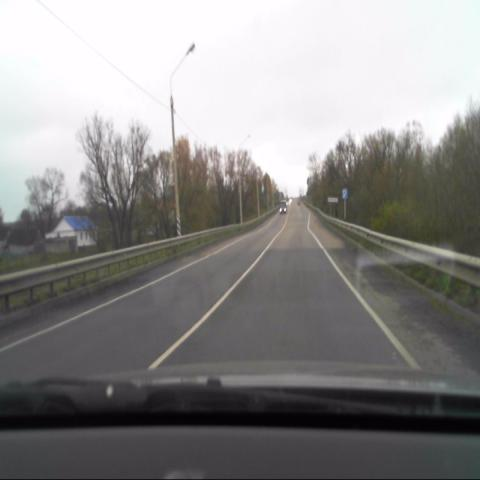5_15_3: (342, 186, 348, 198)
